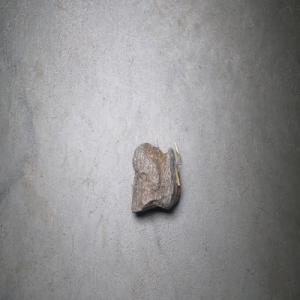Rock: (130, 139, 181, 213)
